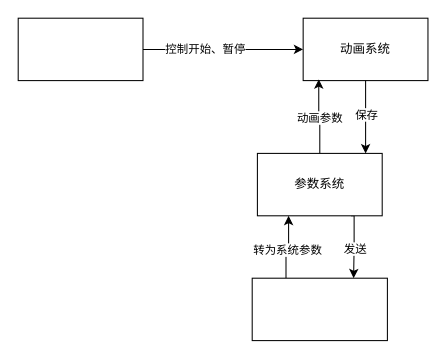
Some shapes in this 446 by 359 pixel diagram are drawn without their labels. Here are the shapes that lost their labels. From the top down, the box of each, then its label:
(17, 17, 143, 81): 逻辑控制
(251, 277, 387, 341): TCP通讯 （接收实际设备消息）
